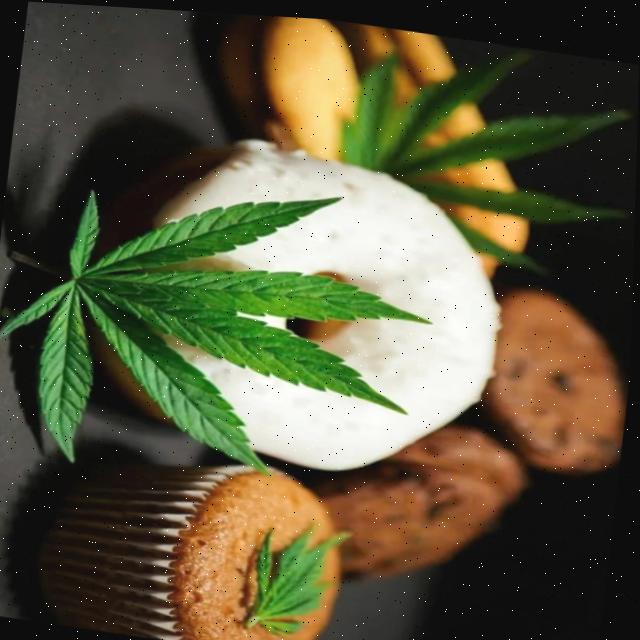cannabis: (0, 184, 442, 481), (336, 52, 632, 271), (247, 522, 360, 635)
